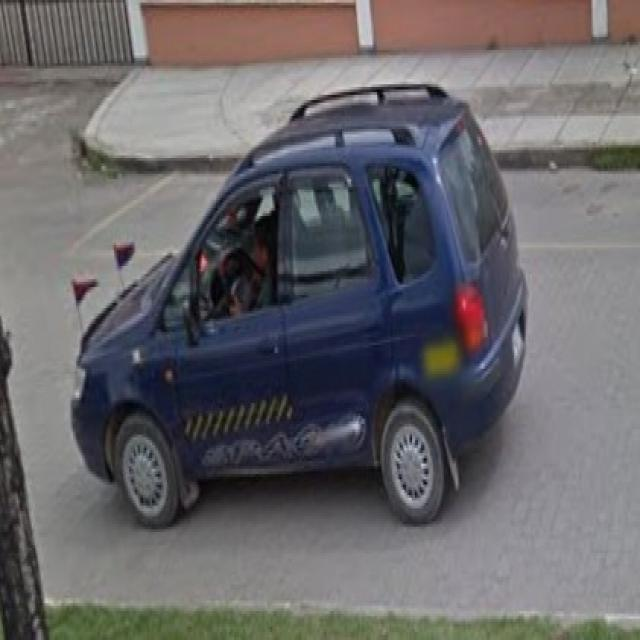Car: (68, 96, 529, 525)
